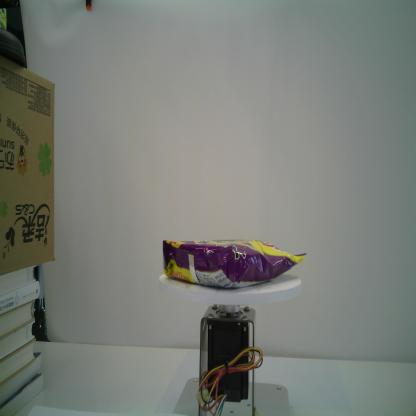Instant Noodles: (162, 238, 308, 289)
